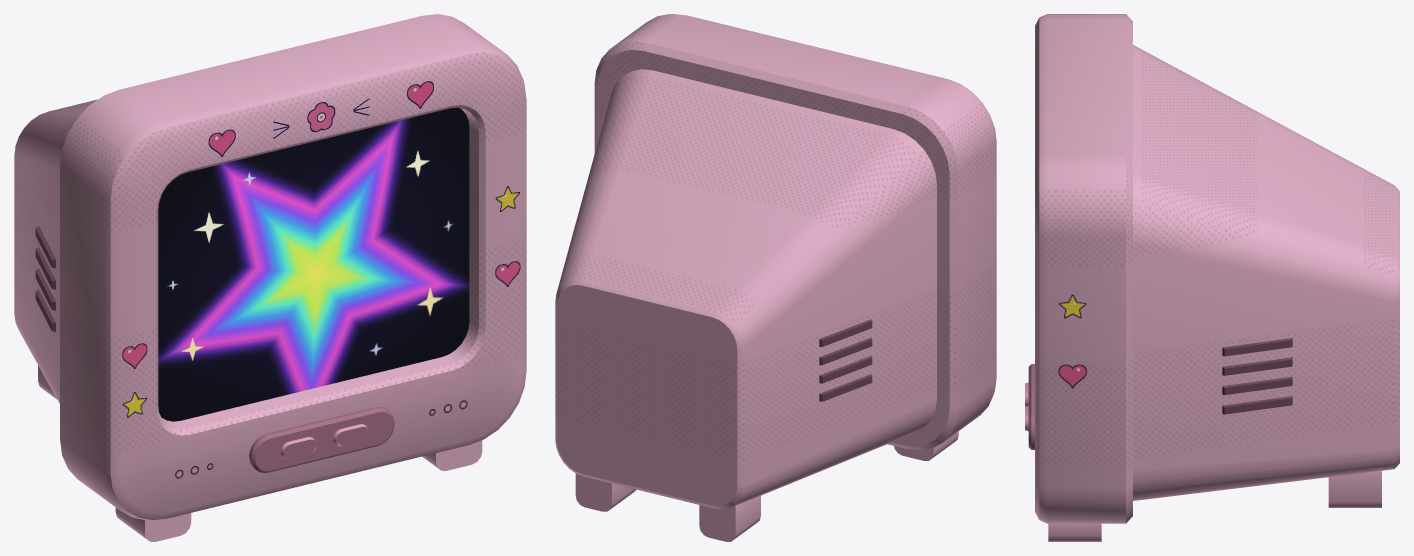
The model's file is retro_tv.glb.
The picture shows the model from 3 angles, left to right: view 1: azimuth 30°, elevation 25°; view 2: azimuth 150°, elevation 25°; view 3: azimuth 270°, elevation 25°; orthographic projection. The views are drawn at different scales.
Parts seen in each view (by area): view 1: Shell, Screen, Controls, Sticker_Flower_Top; view 2: Shell, Controls; view 3: Shell, Controls, Sticker_Heart_Side.
Part boxes in pixels (x1,y1,x2,y2): Shell: (14,14,526,541); Screen: (158,107,469,421); Controls: (35,226,394,472); Sticker_Flower_Top: (307,102,335,132); Shell: (555,14,996,541); Controls: (819,319,872,401); Shell: (1035,14,1399,541); Controls: (1025,338,1292,449); Sticker_Heart_Side: (1058,364,1086,388).
Size of the model in its own units: 1 by 0.95 by 0.842.
8 materials, 8 textured.
